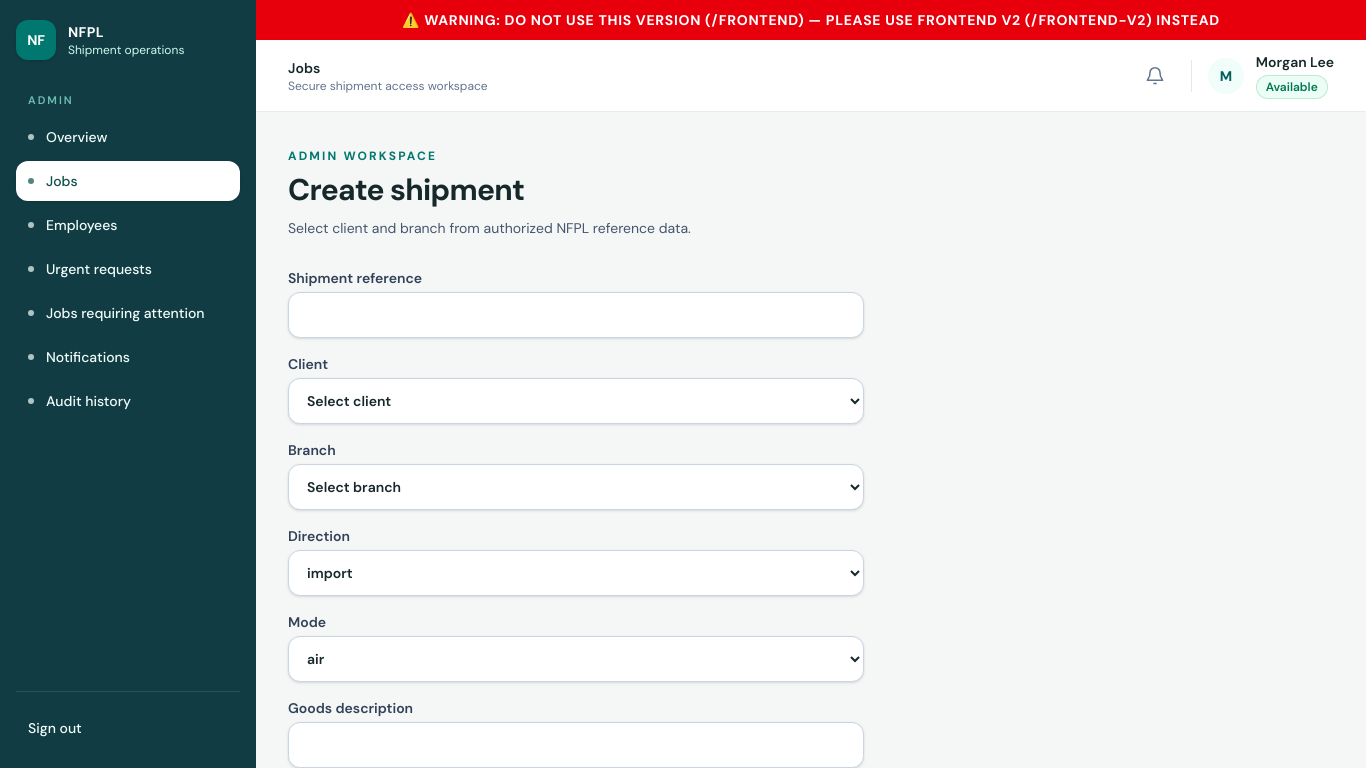
Test: Phase 6B Admin workflows › reloads assignment suggestions after a conflict and preserves its explanation
This screenshot has width=1366, height=768.
Type "NFPL-104" into the field labelled "Shipment reference" at (576, 315), box [288,292,864,338]
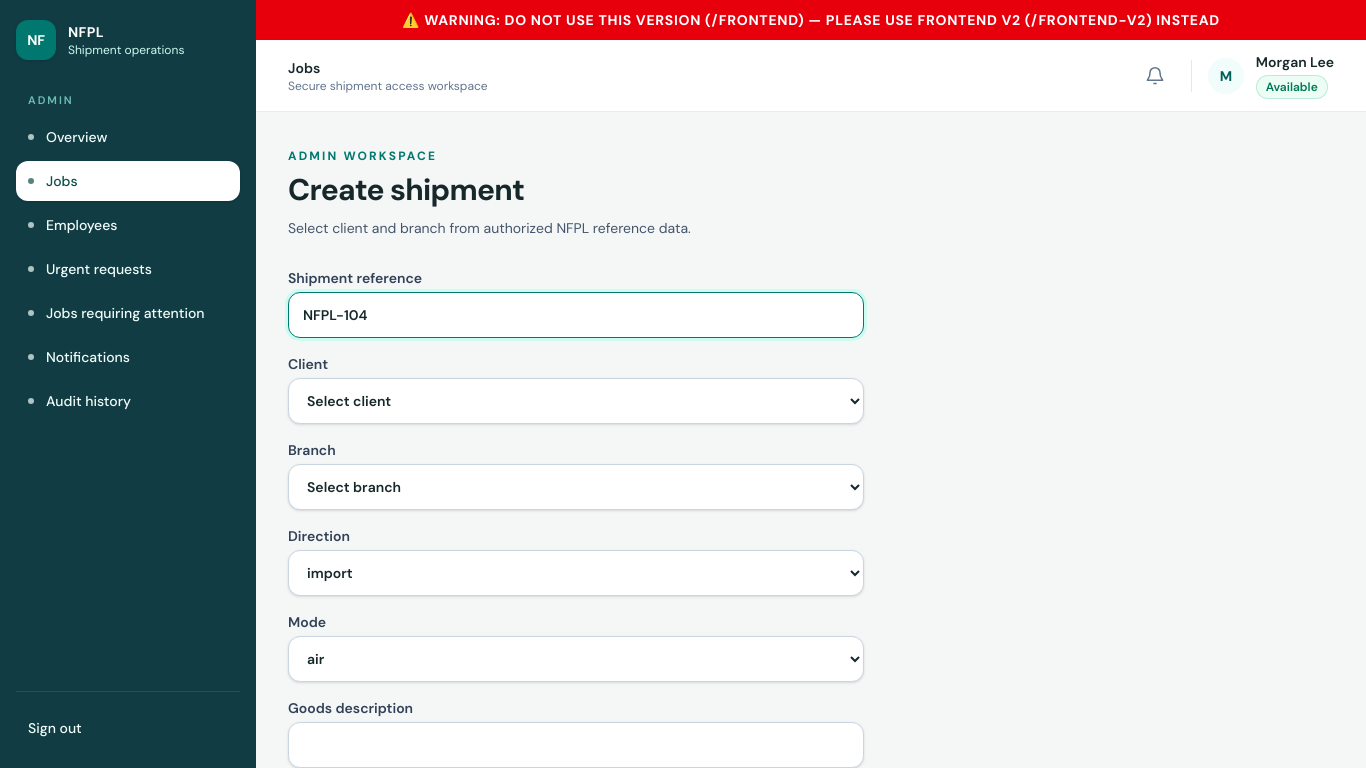
Select "Acme Imports (ACME)" in the dropdown labelled "Client" at (576, 401), box [288,378,864,424]
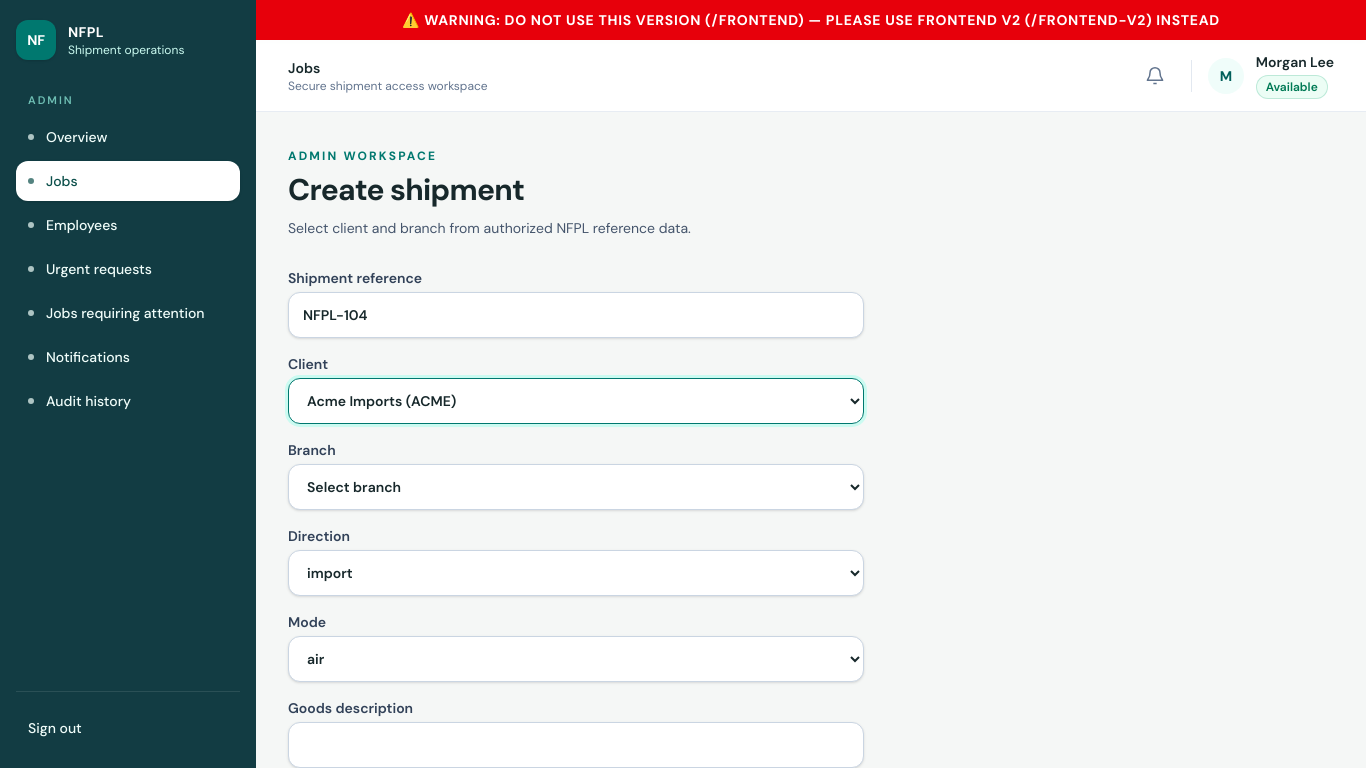
Select "Mumbai (MUM)" in the dropdown labelled "Branch" at (576, 487), box [288,464,864,510]
(page scrolled)
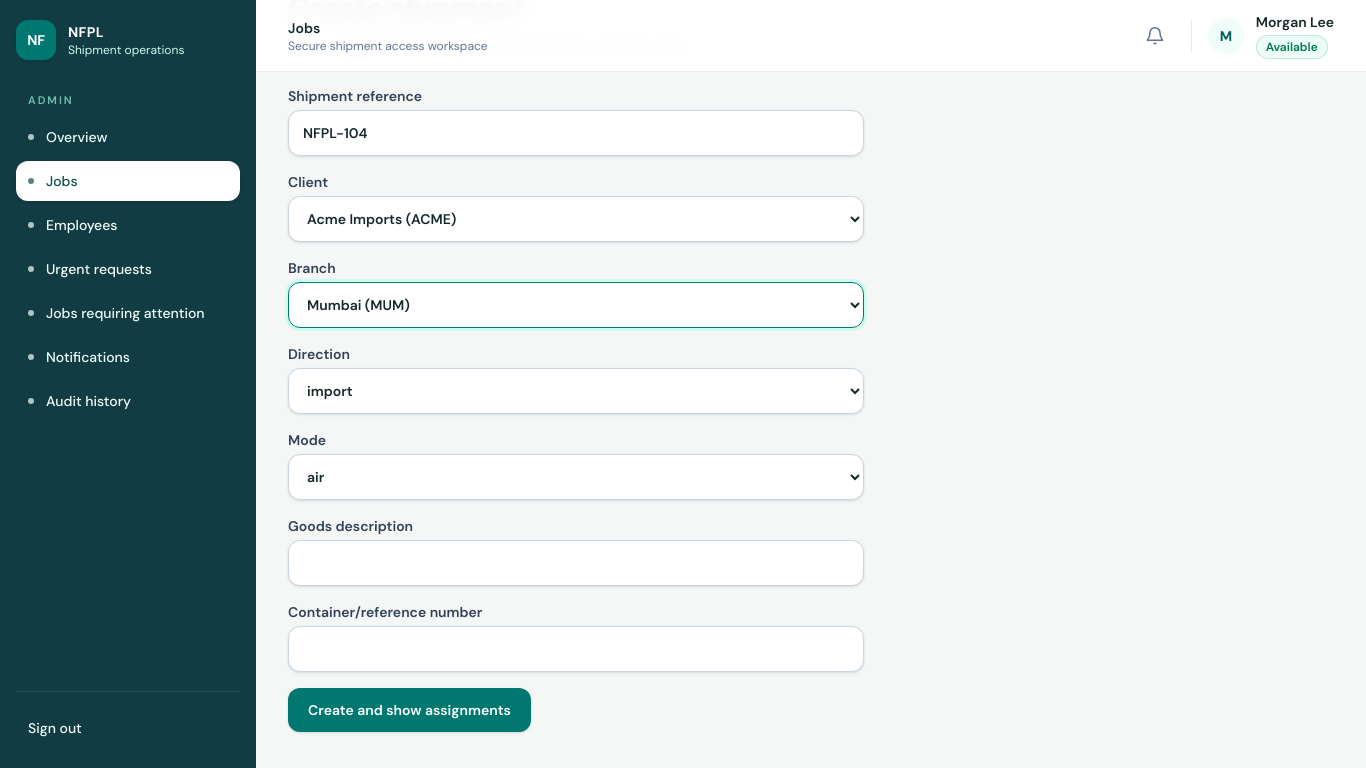
Click the button "Create and show assignments" at (409, 710), box [288,688,531,732]
(page scrolled)
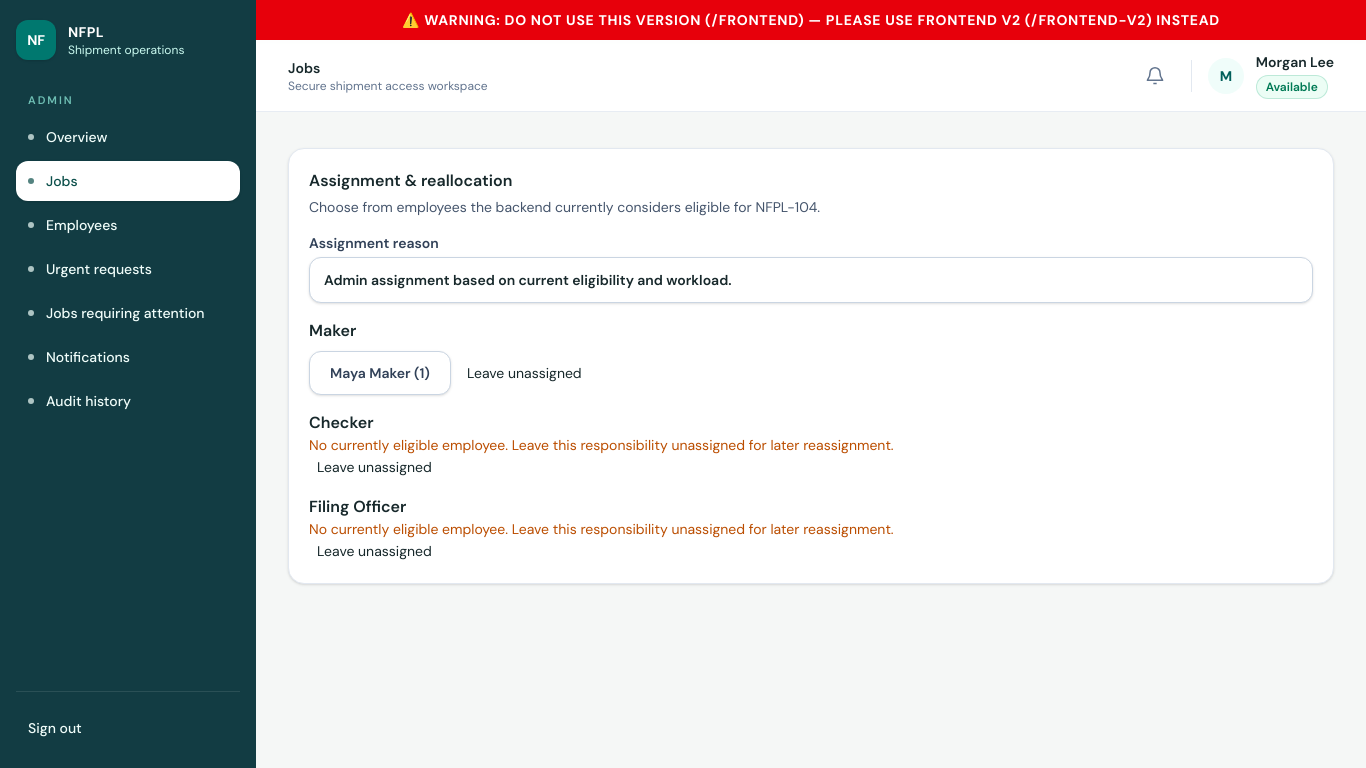
Click the button "Maya Maker (1)" at (380, 373), box [309,351,451,395]
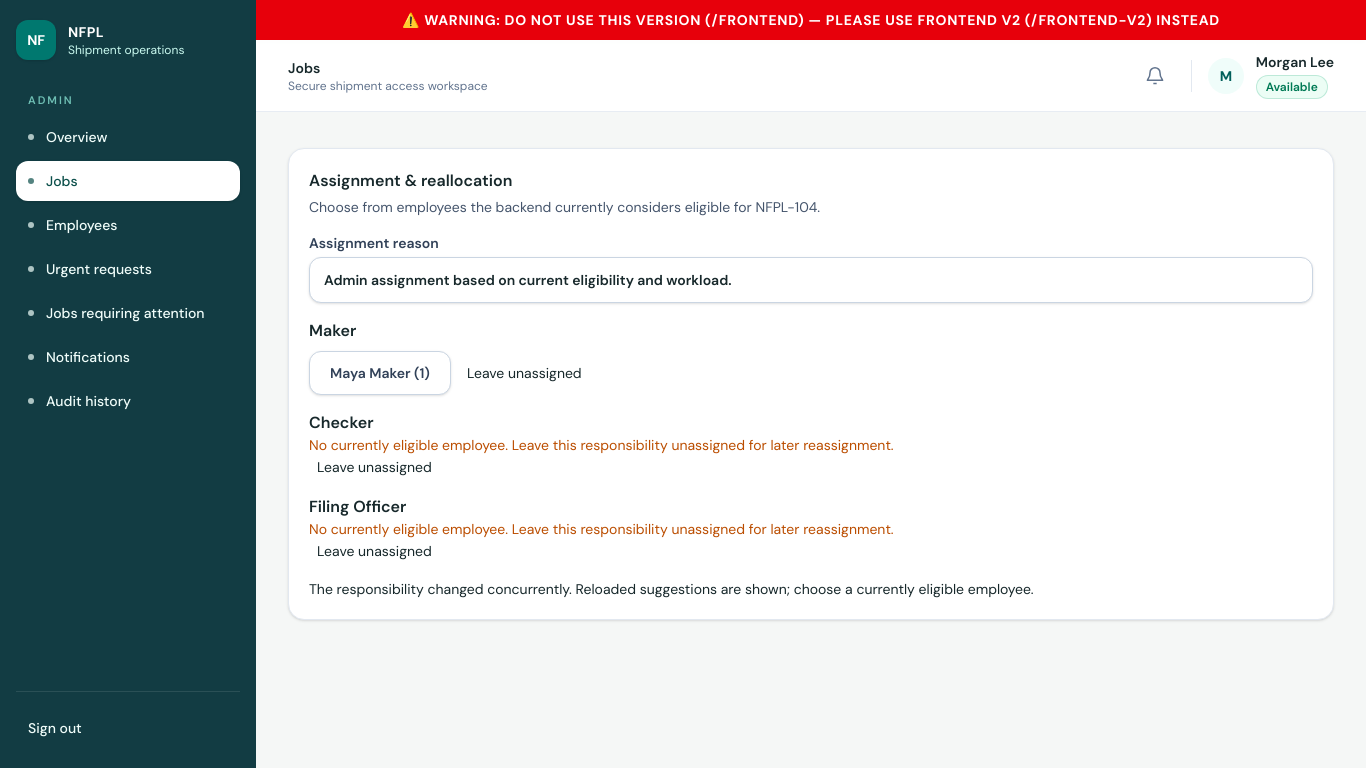
Now the text "Reloaded suggestions are shown" is shown, box [309,580,1034,598]
